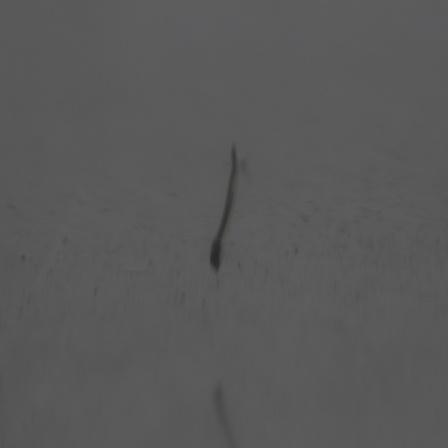Jentik-Nyamuk: (205, 143, 243, 272)
